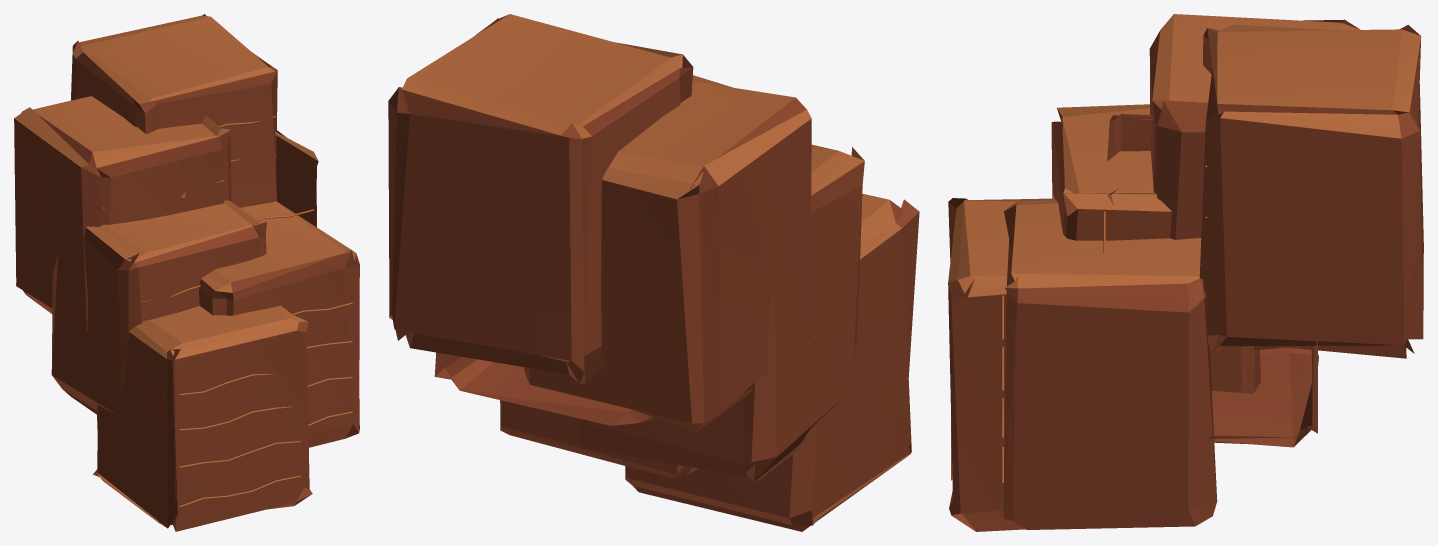
File: beef_cliff.glb
The picture shows the model from 3 angles, left to right: view 1: azimuth 30°, elevation 25°; view 2: azimuth 150°, elevation 25°; view 3: azimuth 270°, elevation 25°; orthographic projection. The views are drawn at different scales.
Visible parts, largest first — view 1: beef_cliff_Palette; view 2: beef_cliff_Palette; view 3: beef_cliff_Palette.
Part boxes in pixels (x1=…): beef_cliff_Palette: x1=14, y1=14, x2=359, y2=531; beef_cliff_Palette: x1=388, y1=14, x2=919, y2=531; beef_cliff_Palette: x1=948, y1=14, x2=1423, y2=531.
Size of the model in its own units: 5.09 by 7.61 by 7.02.
